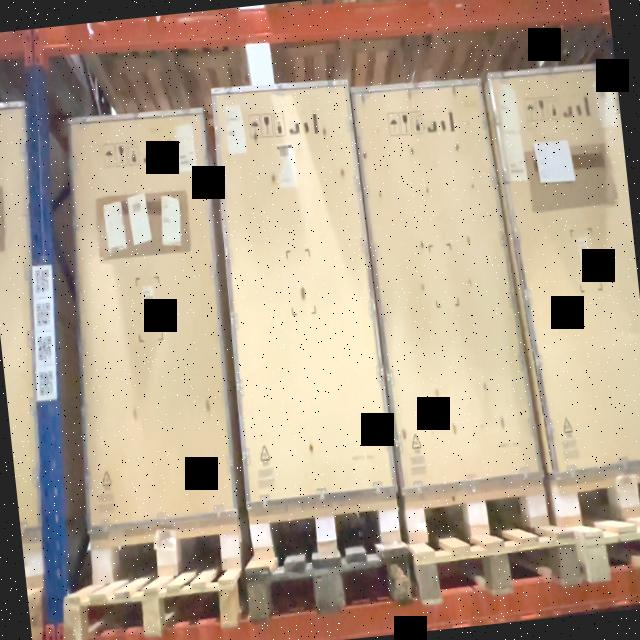box: (214, 80, 388, 497), (355, 82, 528, 490), (70, 110, 236, 521)
